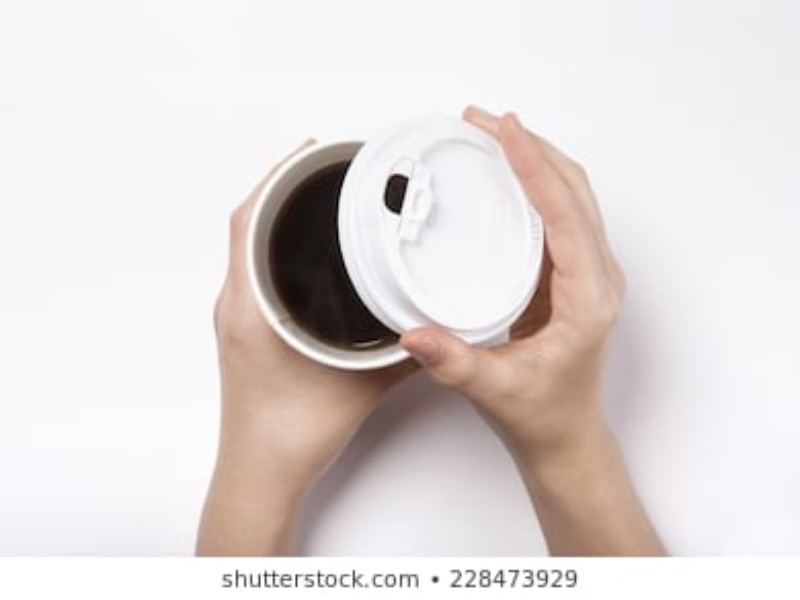coffee-lid: (333, 107, 545, 346)
plastic-cup: (245, 131, 416, 375)
